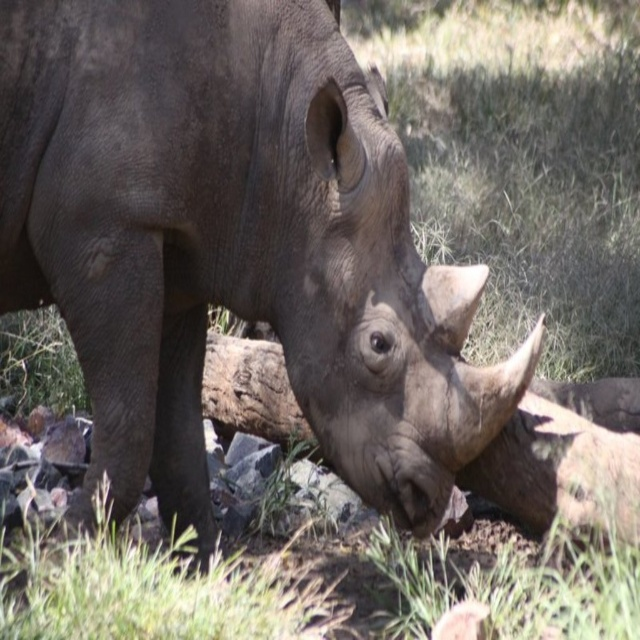Rhinoceros: (0, 0, 548, 587)
